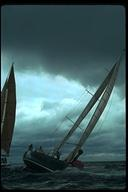sailboat: (20, 51, 123, 176), (1, 61, 17, 173)
sky: (2, 5, 124, 52), (22, 58, 73, 106)
water: (1, 174, 123, 188)
